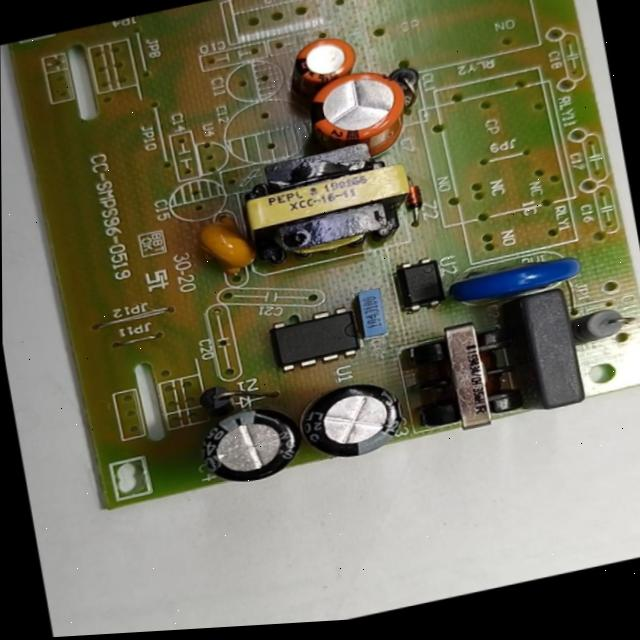Cap1: (294, 52, 428, 173)
Cap2: (287, 28, 365, 91)
Cap3: (291, 370, 416, 472)
Cap4: (183, 387, 310, 496)
MOSFET: (253, 299, 376, 382)
Mov: (436, 236, 598, 320)
Resistor: (567, 293, 640, 351)
Transformer: (225, 128, 428, 276), (403, 306, 541, 442)
